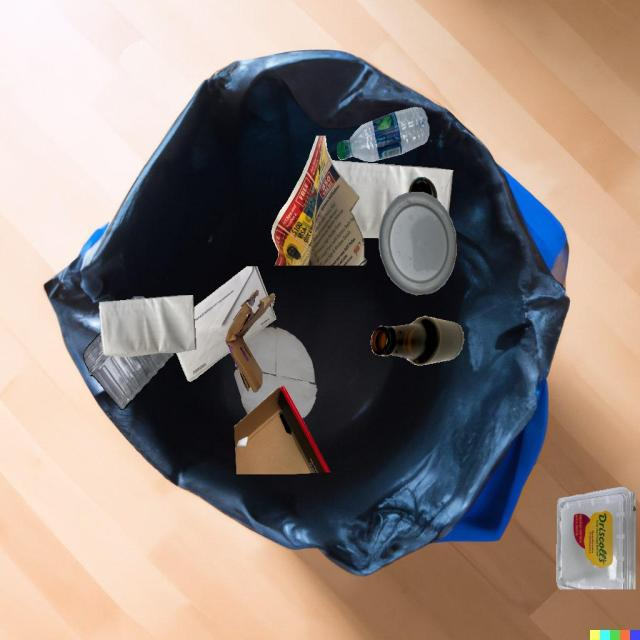cardboard: (234, 385, 331, 475), (225, 290, 275, 393)
glass: (371, 316, 464, 366), (407, 177, 438, 200)
paper: (272, 136, 367, 265), (176, 266, 268, 382), (332, 160, 453, 238), (234, 325, 318, 419), (99, 295, 196, 357)
plastic: (557, 487, 636, 589), (379, 192, 457, 295), (83, 332, 174, 410), (337, 107, 429, 162)
